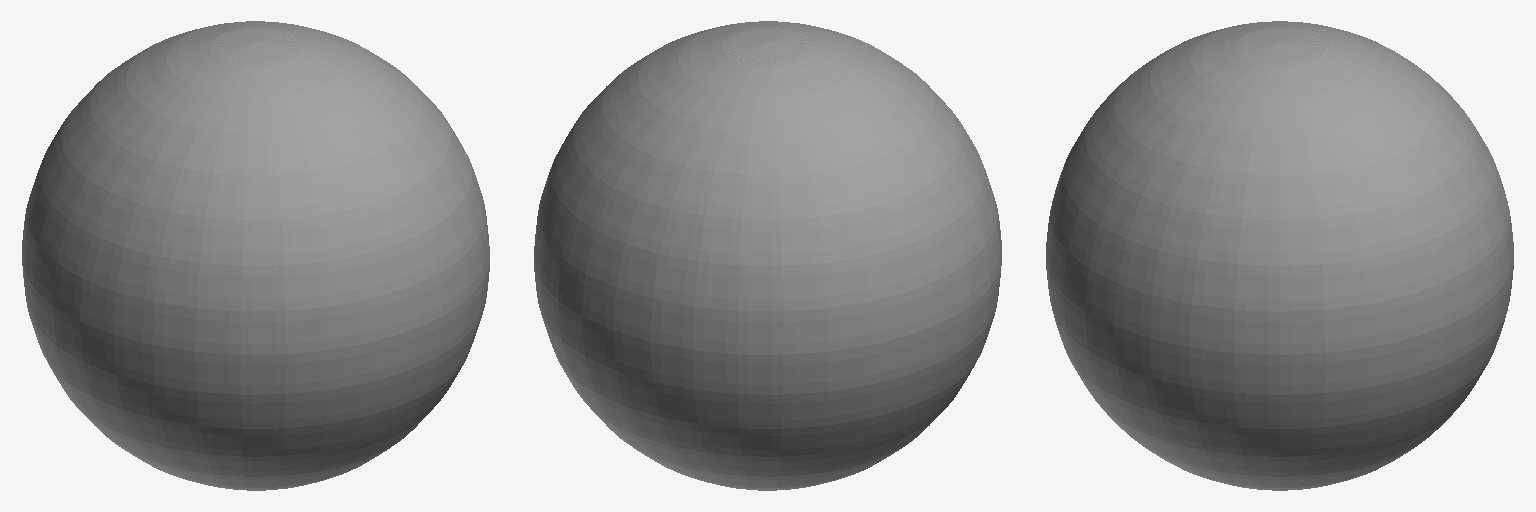
Rendered from Clouds.obj.
The picture shows the model from 3 angles: view 1: azimuth 30°, elevation 25°; view 2: azimuth 150°, elevation 25°; view 3: azimuth 270°, elevation 25°; orthographic projection.
Visible parts, largest first — view 1: Sphere.003_Sphere.000; view 2: Sphere.003_Sphere.000; view 3: Sphere.003_Sphere.000.
Boxes of the visible parts, <box> form: Sphere.003_Sphere.000: <box>22,21,489,490</box>; Sphere.003_Sphere.000: <box>534,21,1001,490</box>; Sphere.003_Sphere.000: <box>1046,21,1513,490</box>.
Bounding box in the file's own units: 63.6 × 63.88 × 63.6.